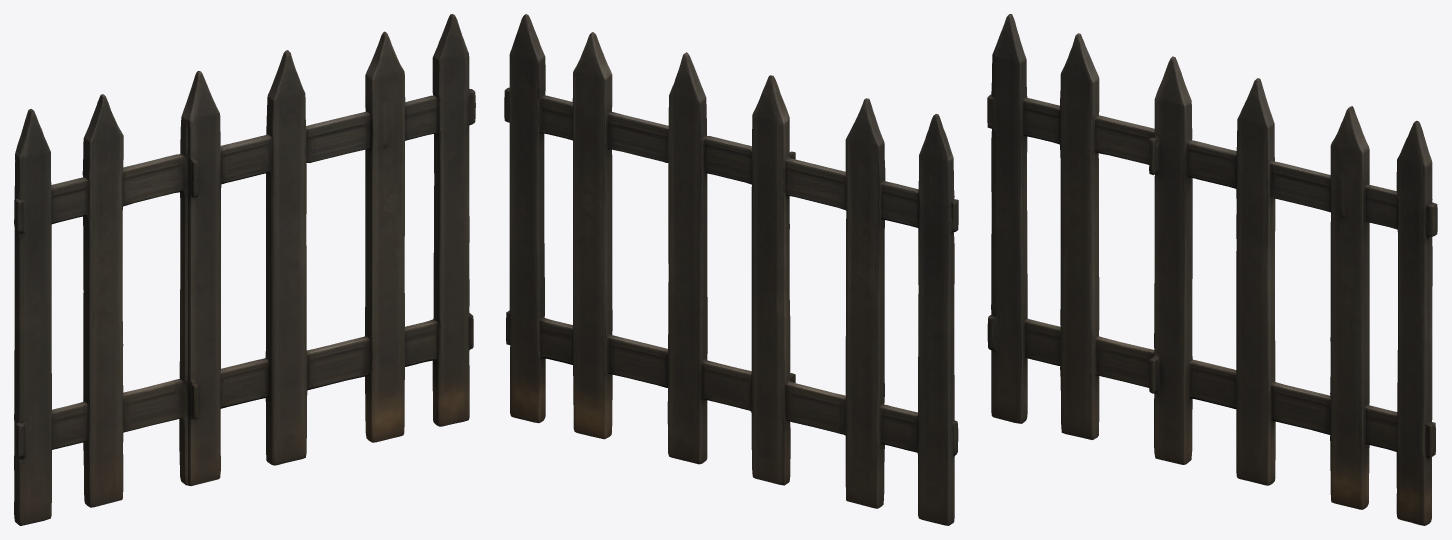
Rendered from wood_fence.glb.
3 renders of one model, left to right at view 1: azimuth 30°, elevation 25°; view 2: azimuth 150°, elevation 25°; view 3: azimuth 330°, elevation 25°, orthographic.
Parts seen in each view (by area): view 1: geometry_0; view 2: geometry_0; view 3: geometry_0.
Part boxes in pixels (<box>): geometry_0: <box>14,14,475,525</box>; geometry_0: <box>504,14,958,525</box>; geometry_0: <box>987,14,1437,525</box>.
Size of the model in its own units: 0.9988 by 0.8587 by 0.0533.
Materials: 1 (1 with a texture image).
